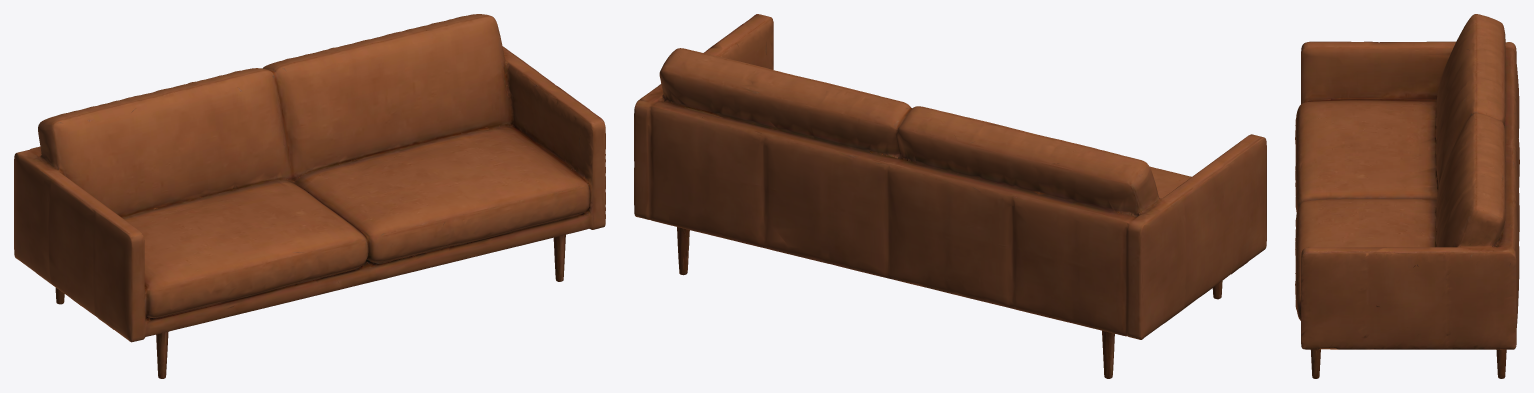
File: sofa.glb
3 renders of one model, left to right at view 1: azimuth 30°, elevation 25°; view 2: azimuth 150°, elevation 25°; view 3: azimuth 270°, elevation 25°, orthographic. The views are drawn at different scales.
Visible parts, largest first — view 1: Mesh_0; view 2: Mesh_0; view 3: Mesh_0.
Boxes of the visible parts, bbox=[...] form: Mesh_0: bbox=[14, 14, 605, 378]; Mesh_0: bbox=[634, 14, 1266, 378]; Mesh_0: bbox=[1295, 14, 1519, 378].
Bounding box in the file's own units: 1.91 × 0.7465 × 0.8459.
Materials: 1 (1 with a texture image).
